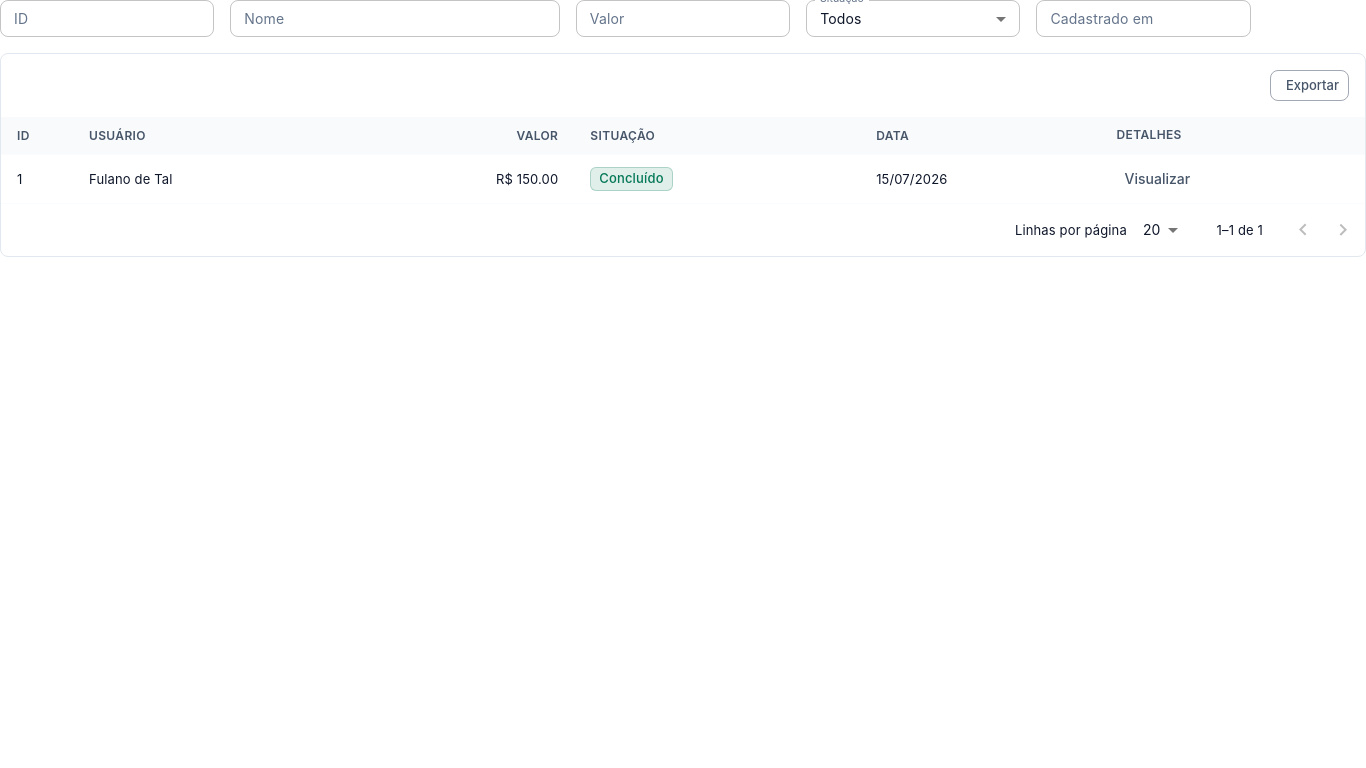
Test case: WithdrawalsTable › solicitação já respondida mostra "Visualizar" e não permite autorizar/rejeitar
The width and height of the screenshot is (1366, 768).
Click the button "Visualizar".
click(1157, 179)  # box [1116,161,1198,197]
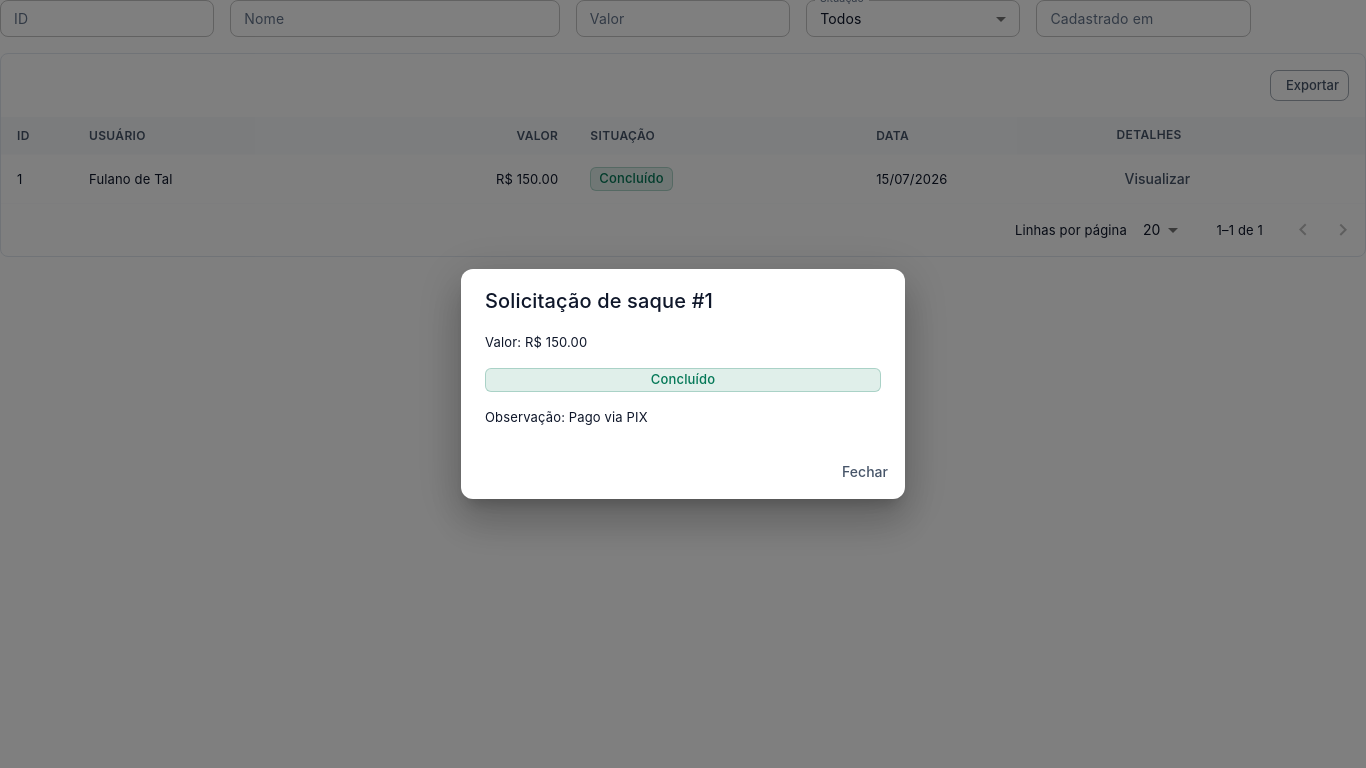
Result: the text "Observação: Pago via PIX" is shown at [485,409,648,425]
